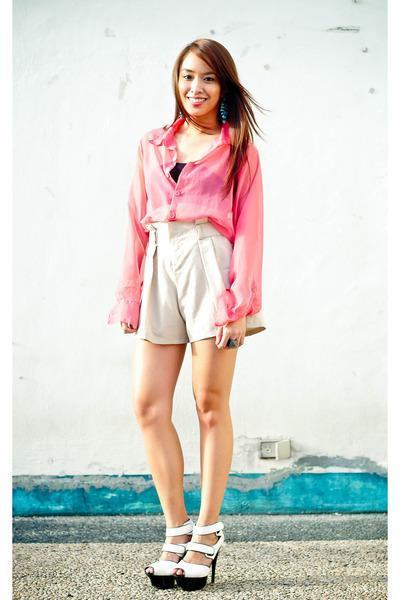Shorts: (130, 213, 267, 350)
long sleeve shirt: (105, 118, 268, 332)
